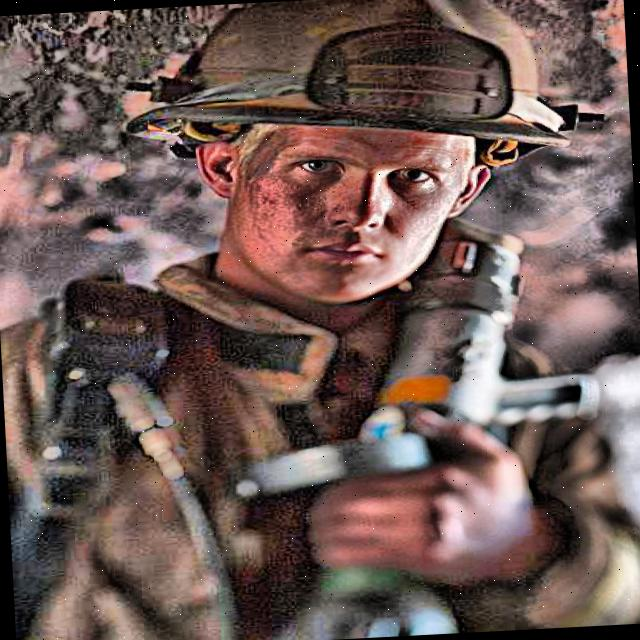helmet: (89, 0, 590, 336)
